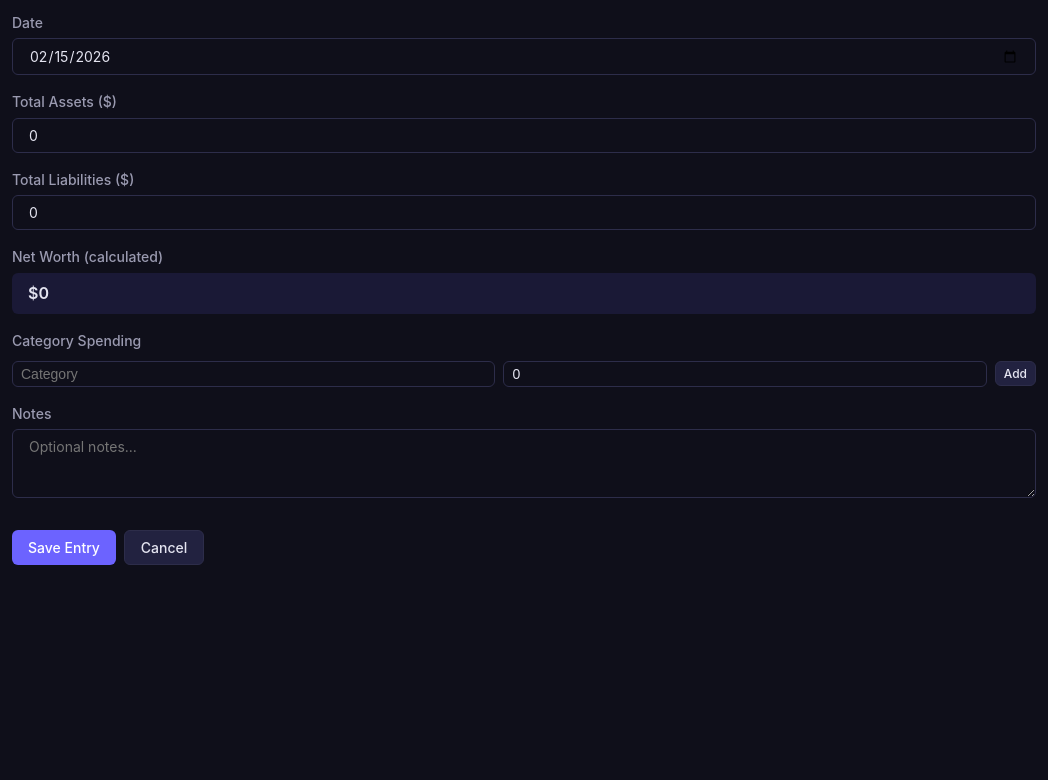
Test case: FinanceForm › auto-calculates net worth from assets minus liabilities
The width and height of the screenshot is (1048, 780).
Replace the text in the number field with class "input-field" below "Total Assets ($)" with "100000". click: {"x": 524, "y": 135}
box: [12,118,1036,153]
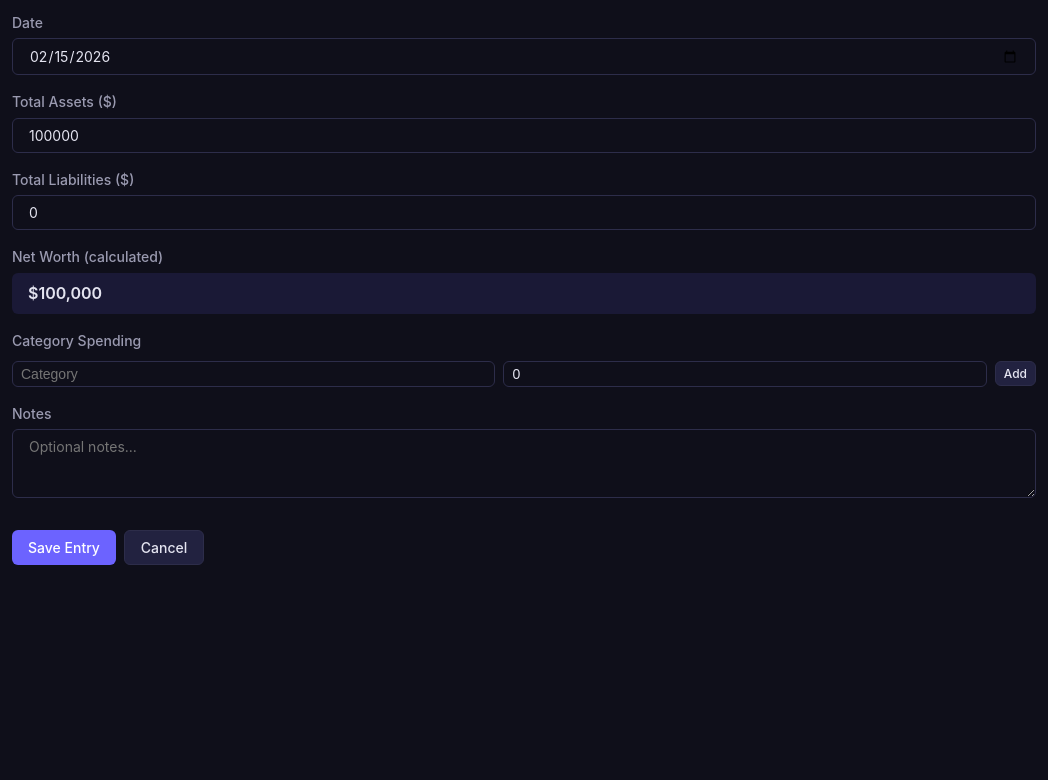
Replace the text in the number field with class "input-field" below "Total Liabilities ($)" with "30000". click: {"x": 524, "y": 213}
box: [12,195,1036,230]
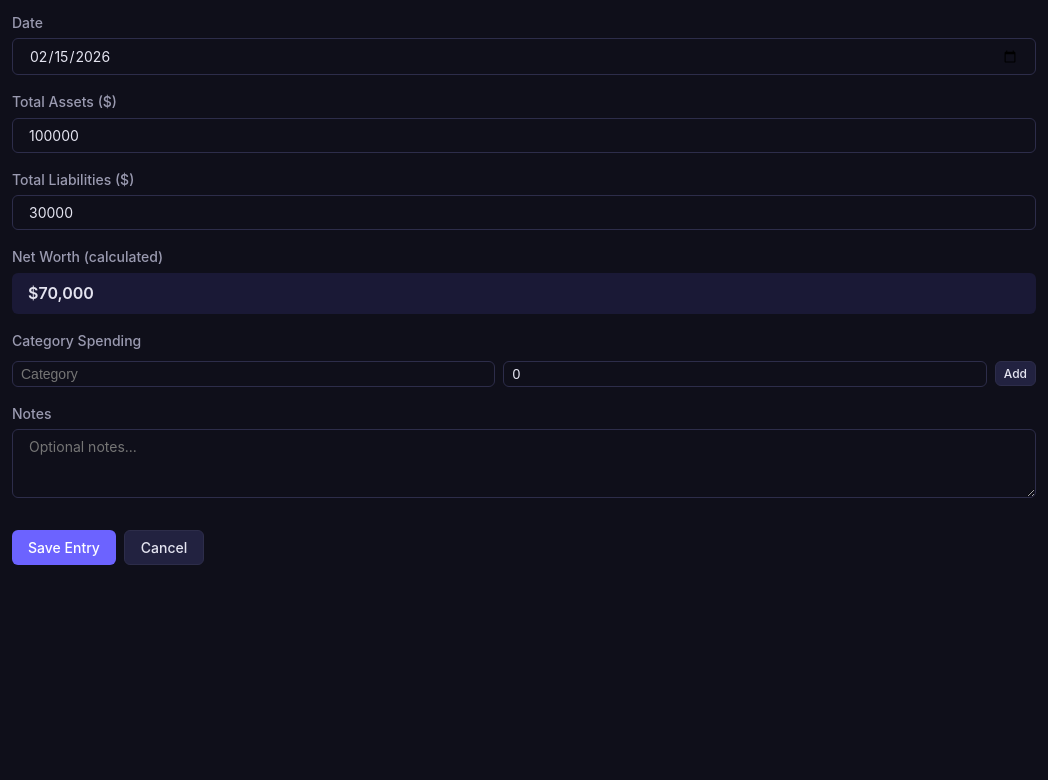
Result: the text with test id "net-worth-display" shows "70,000" at [28,283,94,303]
